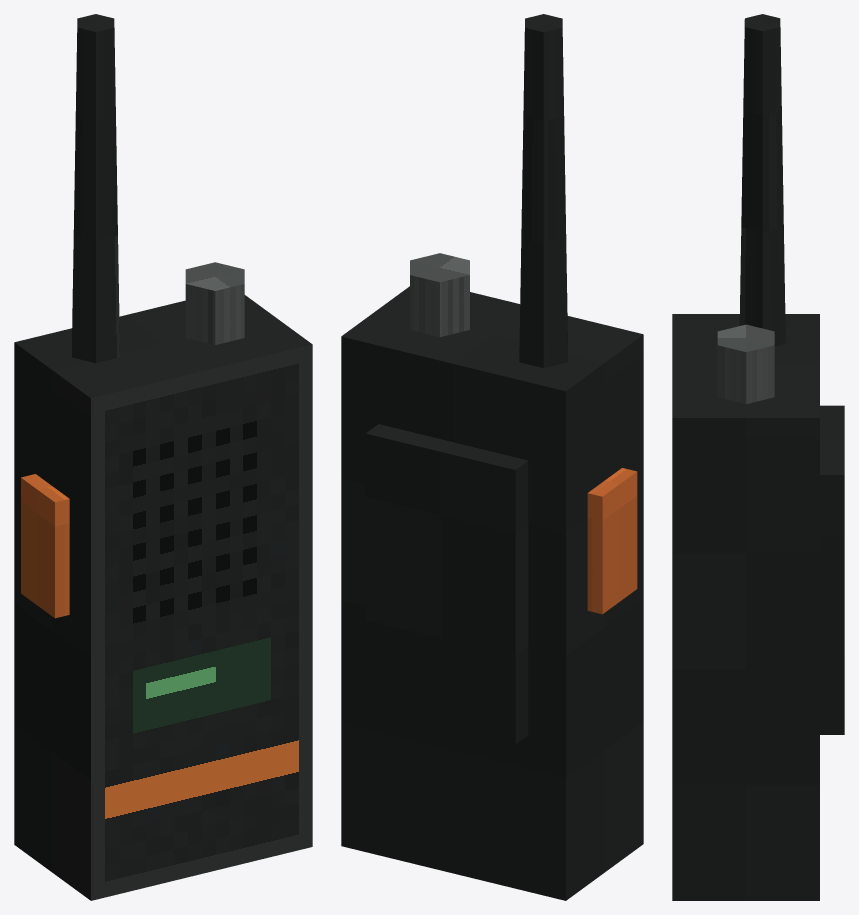
Rendered from walkie_talkie.glb.
3 views of the same model, side by side, from view 1: azimuth 30°, elevation 25°; view 2: azimuth 150°, elevation 25°; view 3: azimuth 270°, elevation 25° (orthographic). The views are drawn at different scales.
Visible parts, largest first — view 1: Walkie; view 2: Walkie; view 3: Walkie.
Boxes of the visible parts, x1,y1,x2,y2 form: Walkie: (14,14,312,900); Walkie: (341,14,643,900); Walkie: (672,14,844,900).
Size of the model in its own units: 0.064 by 0.215 by 0.042.
4 materials, 4 textured.
